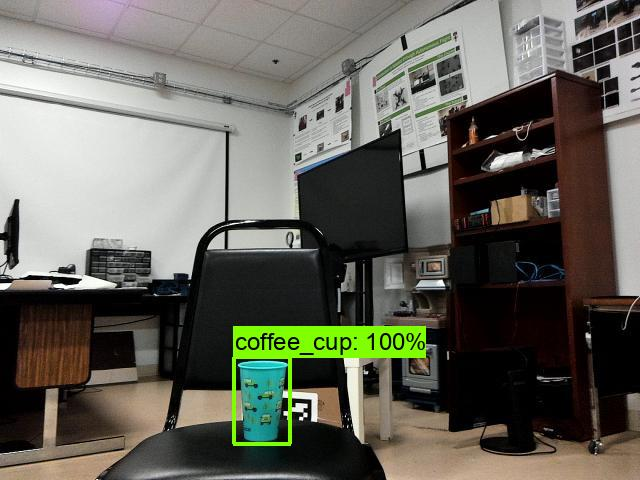coffee_cup: (232, 357, 293, 446)
